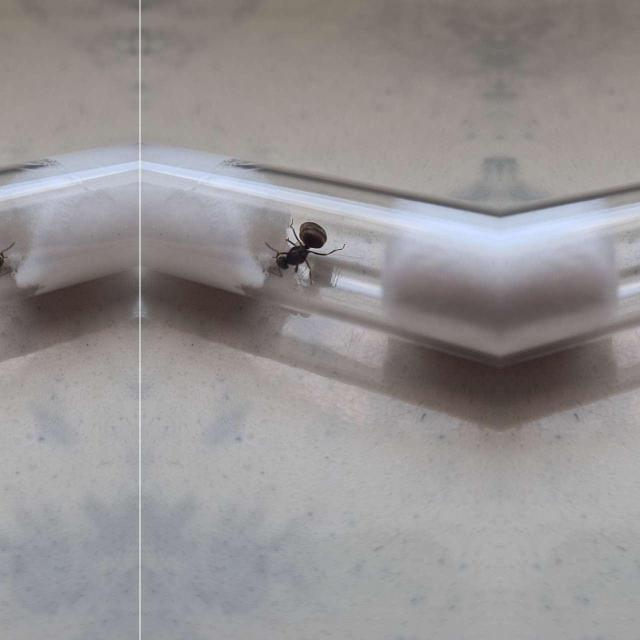Lasius: (260, 213, 330, 281), (0, 213, 20, 281)
